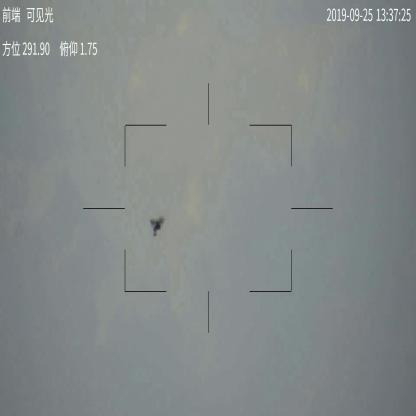uav: (149, 214, 165, 237)
